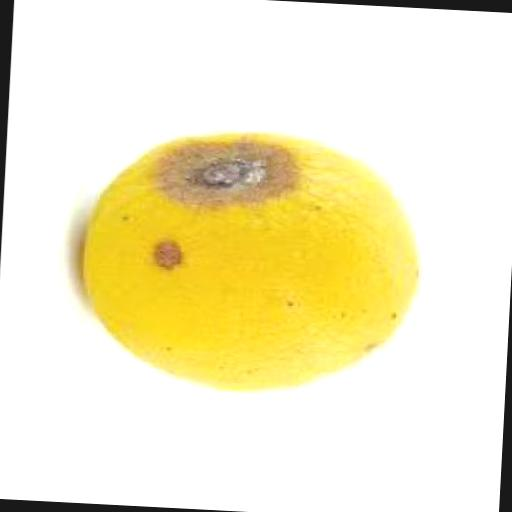biodegradable: (74, 127, 430, 401)
